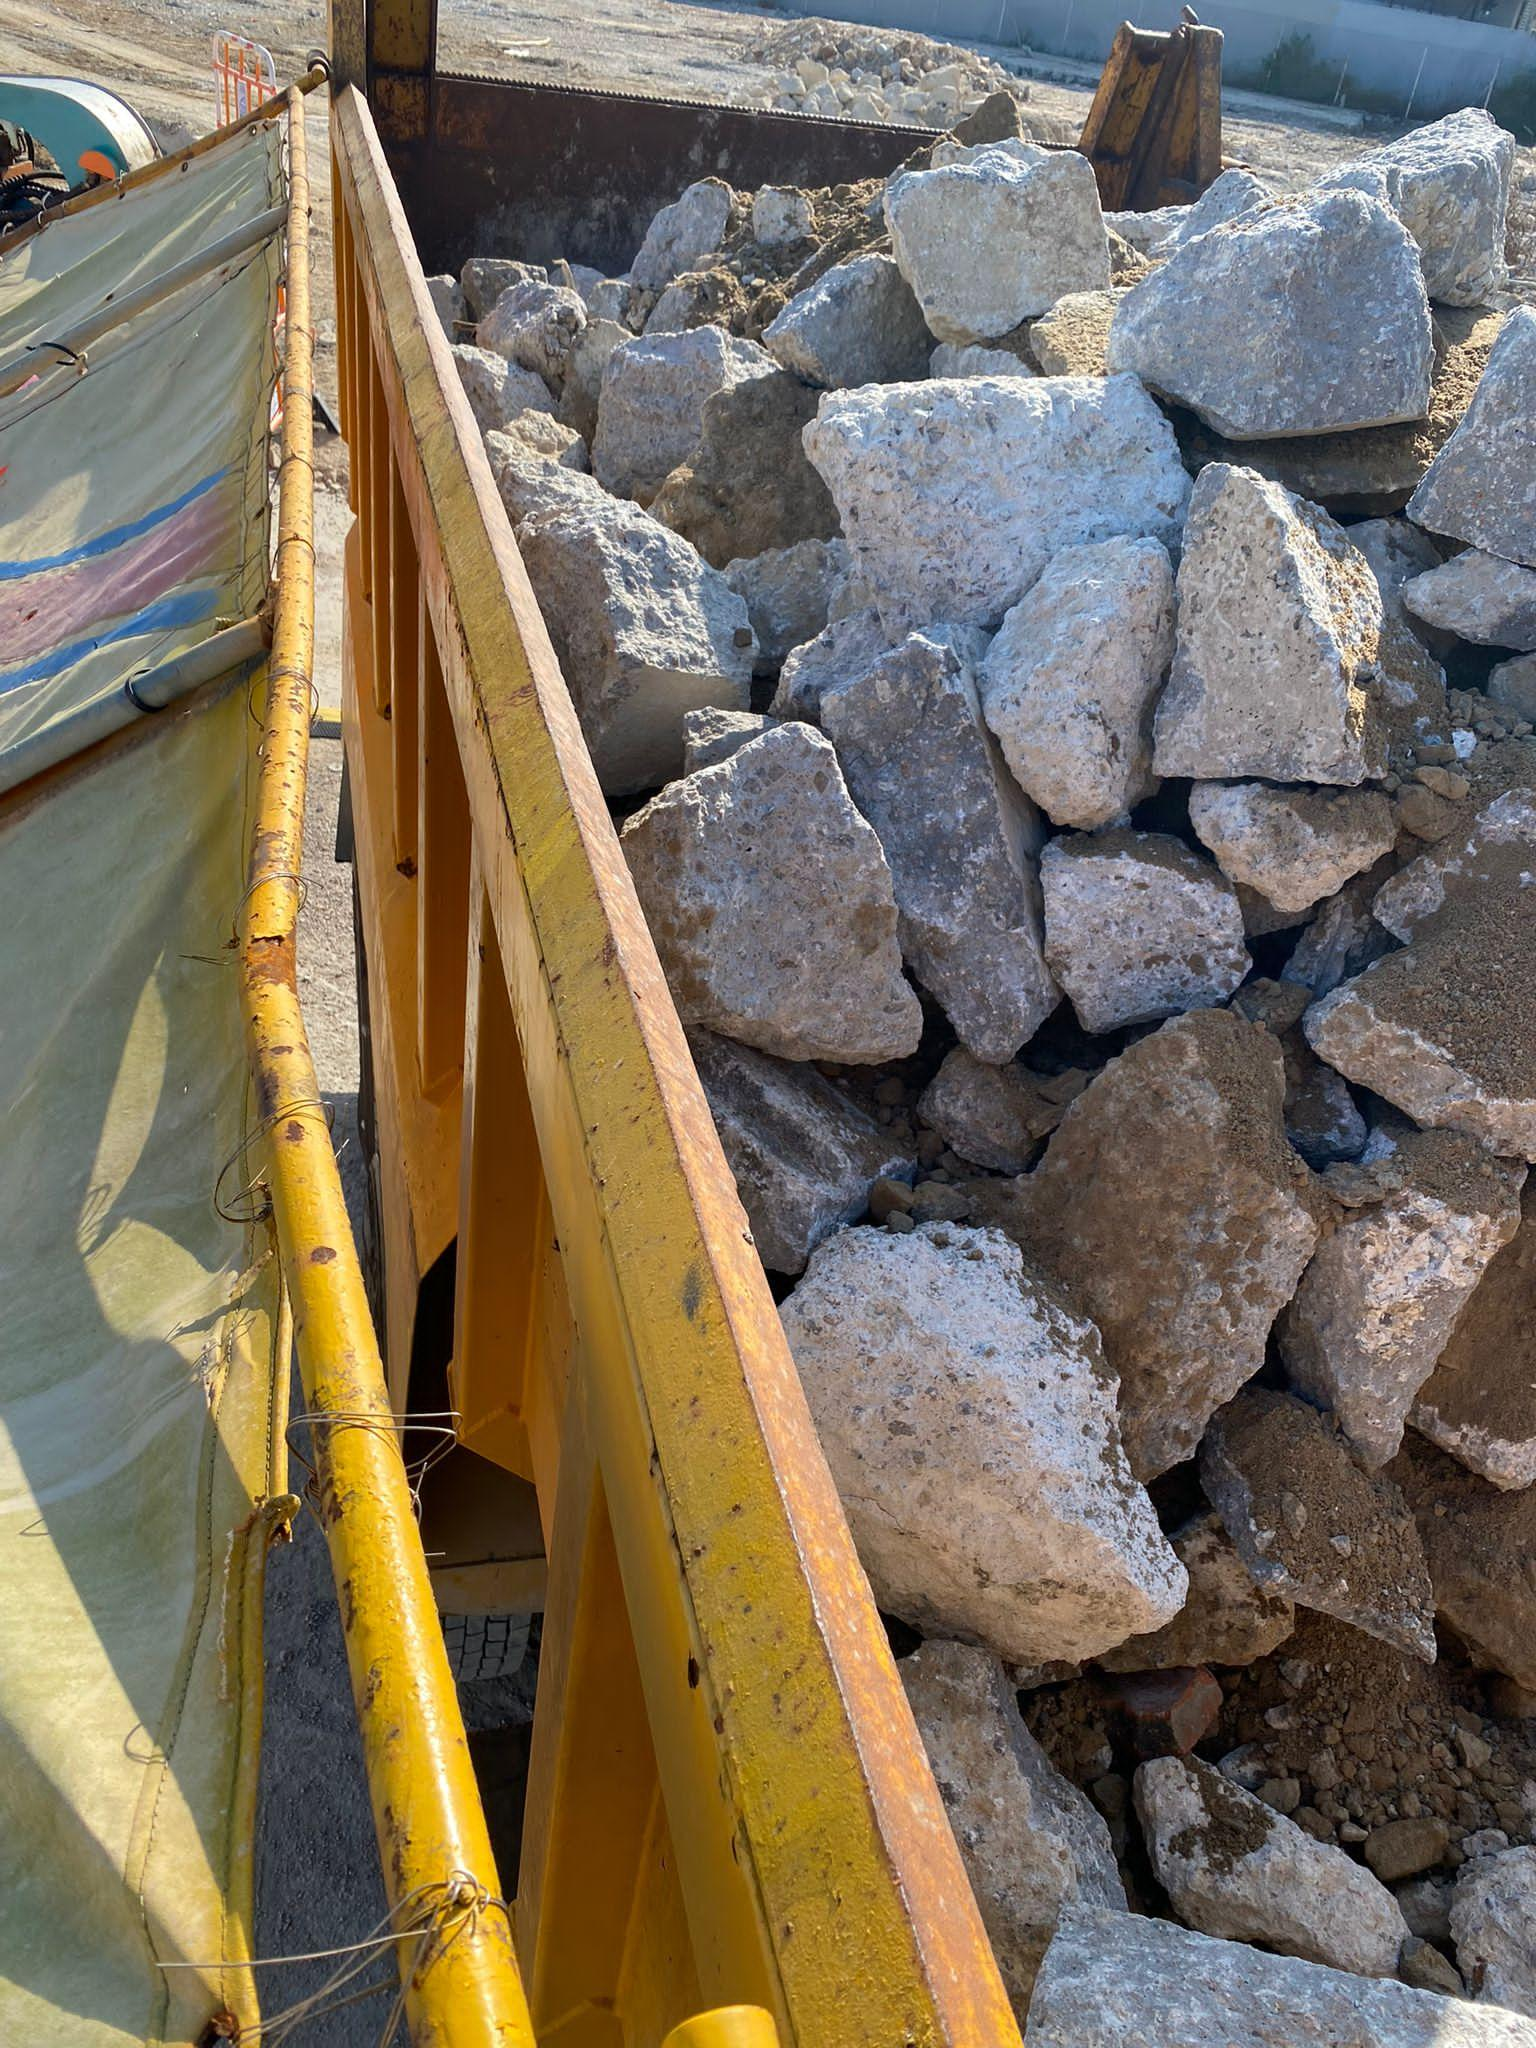dry: (484, 113, 1530, 2048)
